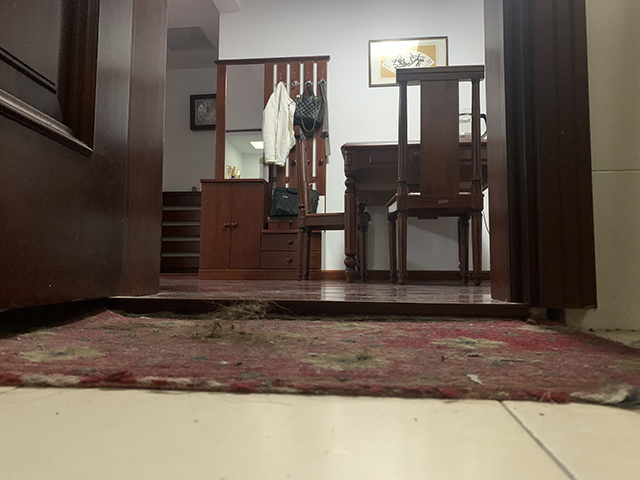cabinet: (196, 176, 323, 279)
carpet: (1, 307, 639, 412)
stool: (382, 63, 487, 287), (291, 123, 373, 283)
table: (339, 138, 488, 283)
